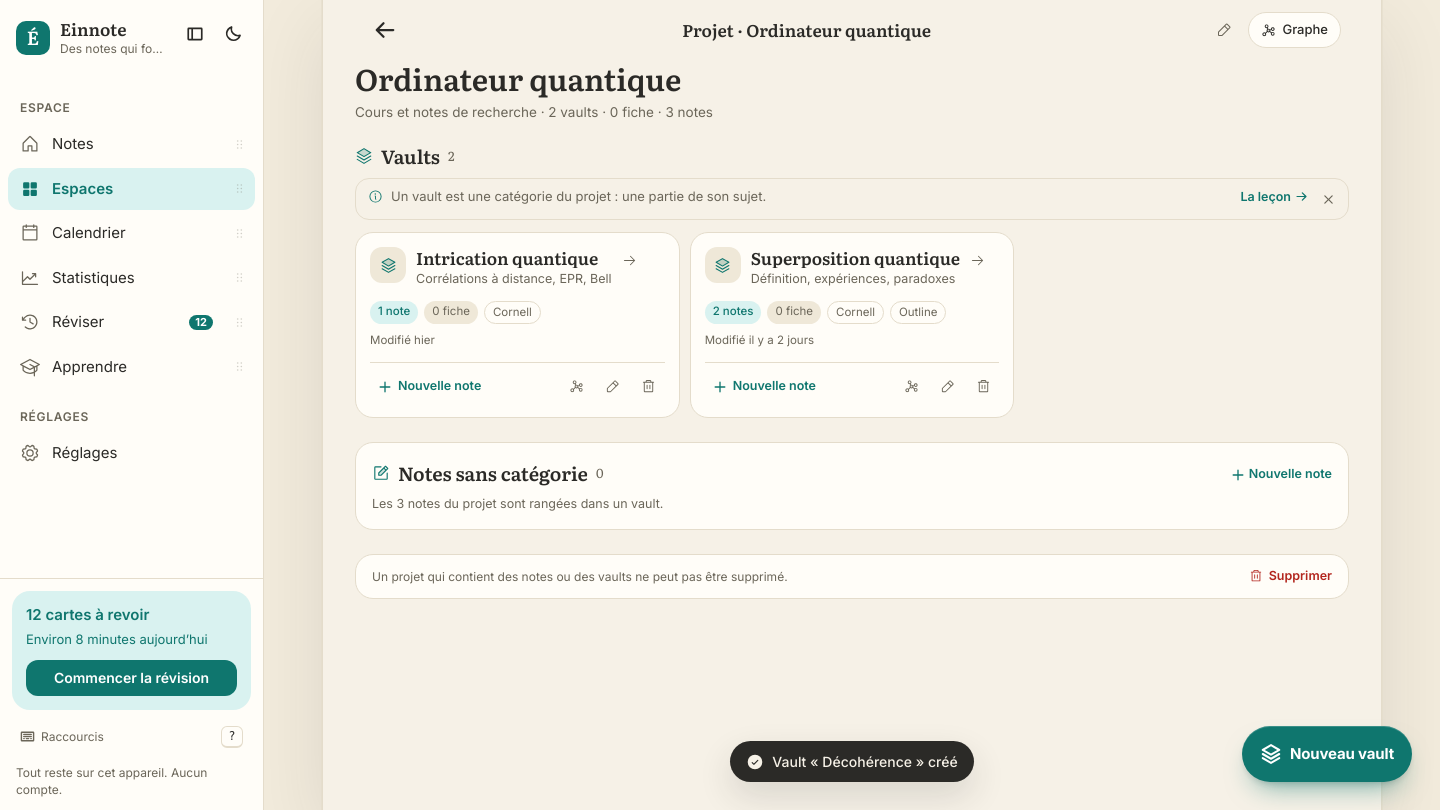
Test: Créer un vault = créer une carte, rien de plus › écrit directement une note dans la catégorie depuis sa carte
This screenshot has width=1440, height=810.
Click the button with aria-label "Écrire une note dans Intrication quantique" at {"x": 430, "y": 386}, box 370,370 -> 489,402
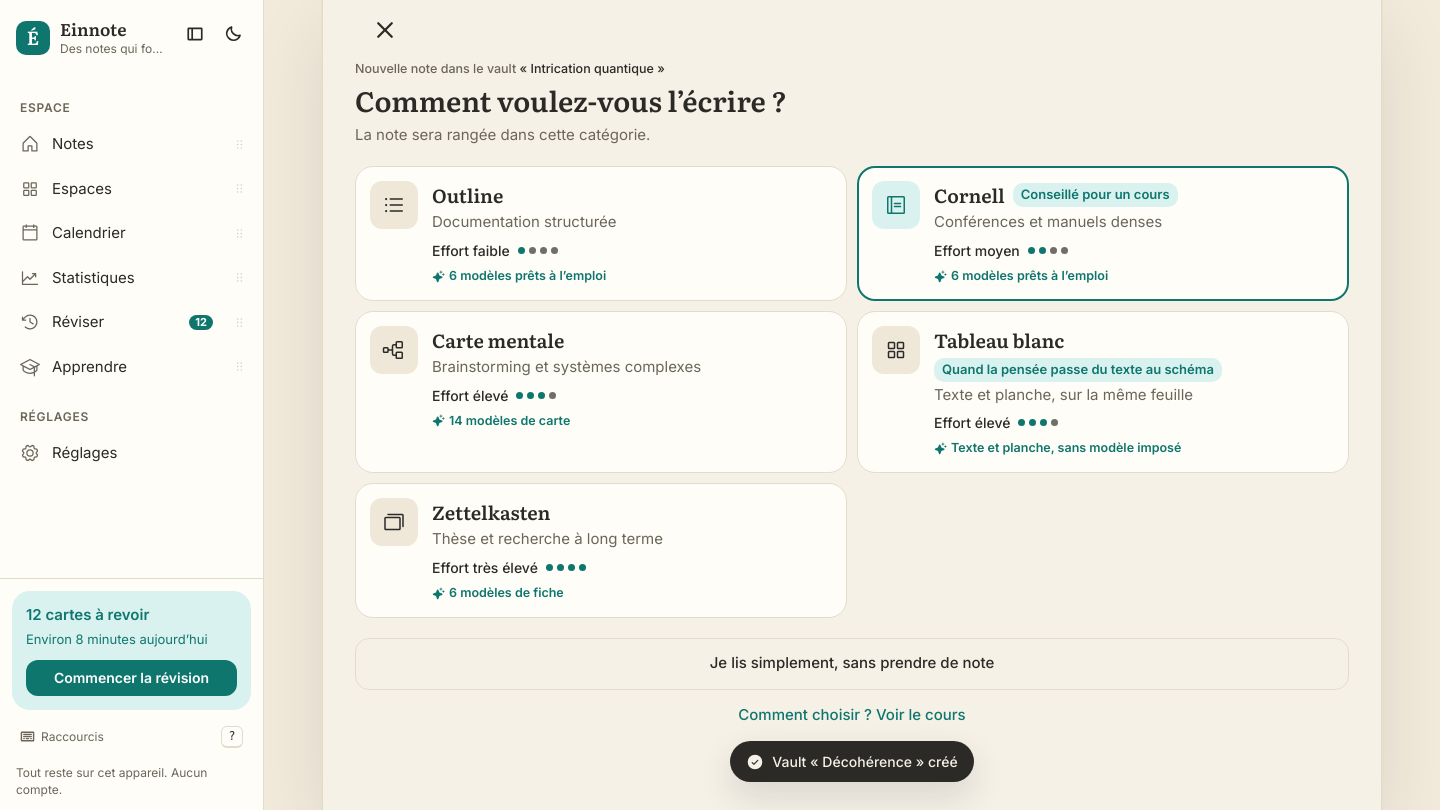
Result: the text "Nouvelle note dans le vault « Intrication quantique »" is shown at 355,61 -> 665,76
